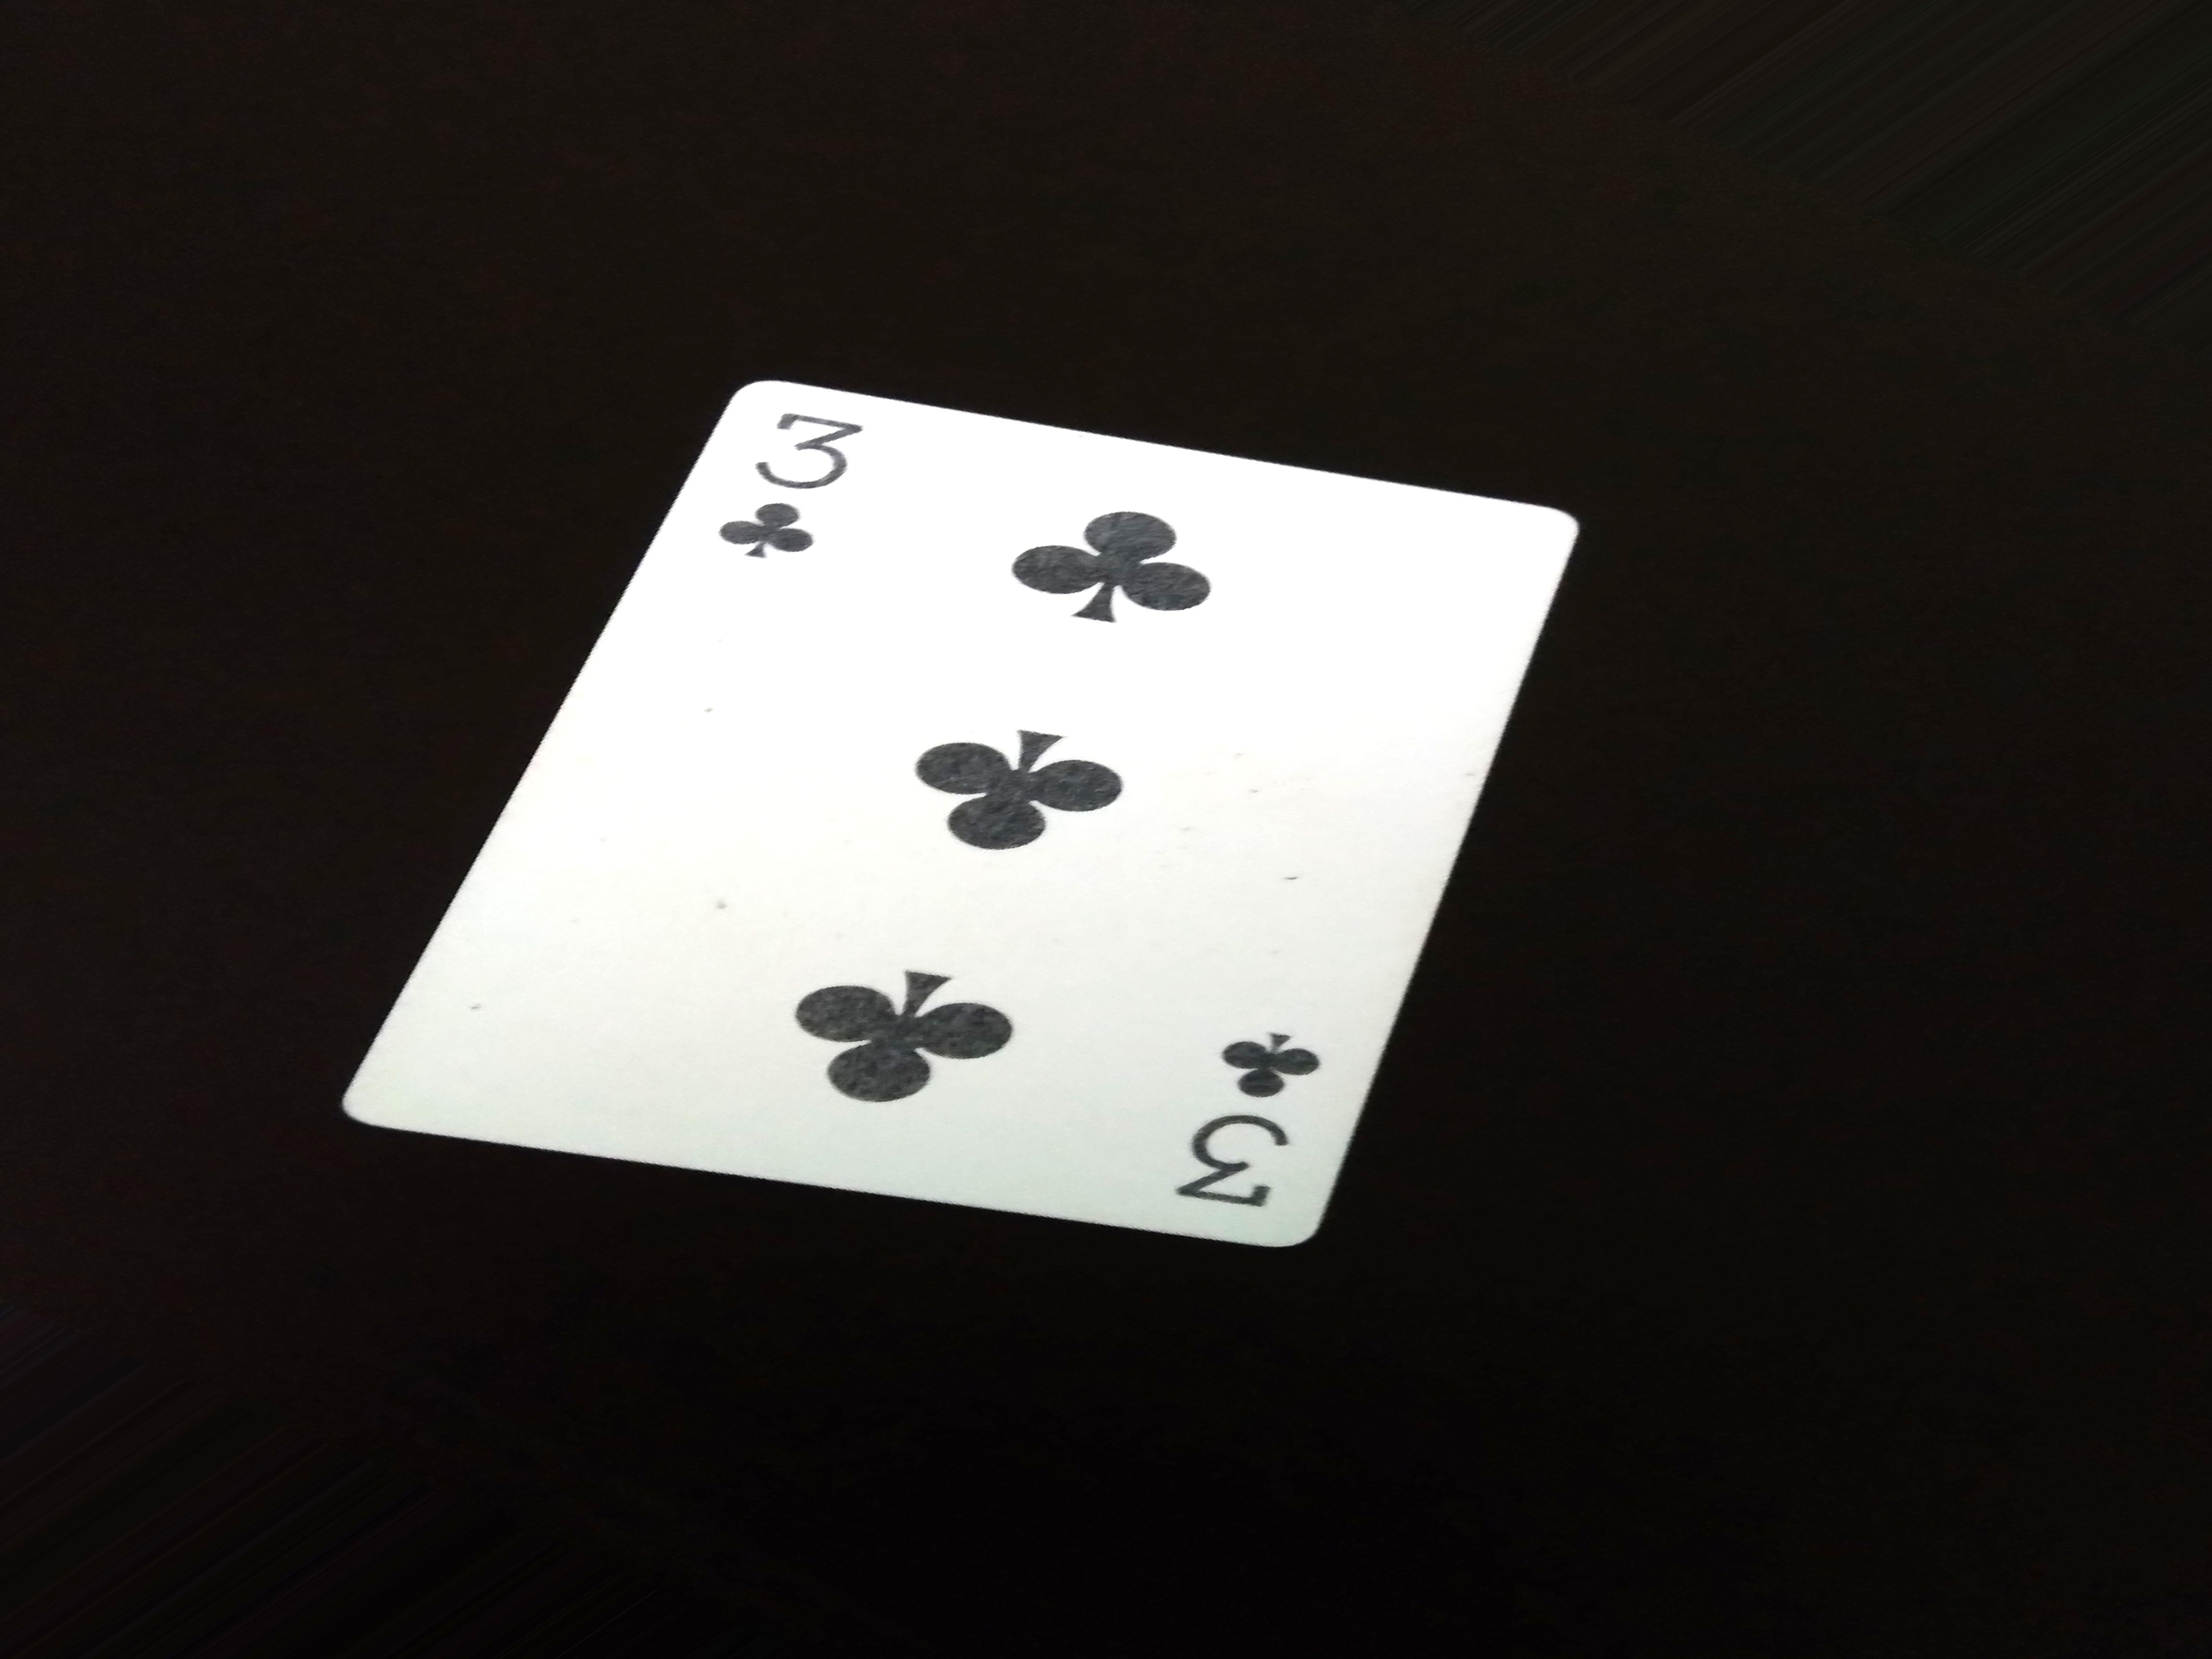3C: (725, 378, 895, 589)
